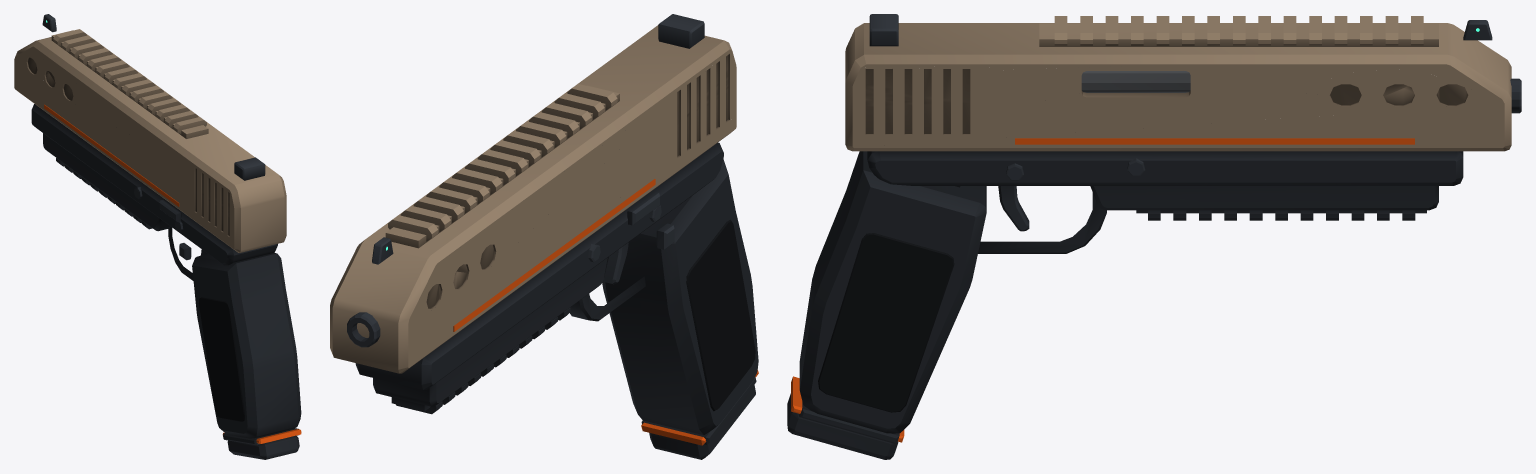
The model's file is desert-eagle.glb.
3 renders of one model, left to right at view 1: azimuth 30°, elevation 25°; view 2: azimuth 150°, elevation 25°; view 3: azimuth 270°, elevation 25°, orthographic. The views are drawn at different scales.
Parts seen in each view (by area): view 1: bolt_frame, body_frame2, body_rubber, mag_frame2, bolt_steel, bolt_accent, body_steel, mag_accent; view 2: bolt_frame, body_frame2, body_rubber, body_steel, bolt_steel, bolt_accent, mag_frame2, mag_accent; view 3: bolt_frame, body_frame2, body_rubber, bolt_accent, bolt_bolt, mag_frame2, body_steel, bolt_steel.
Boxes of the visible parts, box(x1,y1,x2,y2) form: bolt_frame: box(14, 29, 286, 252); body_frame2: box(31, 104, 301, 445); body_rubber: box(198, 297, 244, 421); mag_frame2: box(227, 435, 299, 459); bolt_steel: box(42, 14, 265, 180); bolt_accent: box(44, 104, 179, 206); body_steel: box(134, 187, 207, 260); mag_accent: box(222, 429, 301, 443); bolt_frame: box(330, 25, 736, 373); body_frame2: box(355, 142, 758, 444); body_rubber: box(686, 219, 755, 411); body_steel: box(347, 191, 674, 347); bolt_steel: box(372, 14, 704, 264); bolt_accent: box(453, 179, 655, 331); mag_frame2: box(649, 385, 755, 459); mag_accent: box(641, 370, 758, 445); bolt_frame: box(845, 16, 1511, 151); body_frame2: box(799, 151, 1463, 444); body_rubber: box(818, 233, 954, 412); bolt_accent: box(1015, 138, 1414, 144); bolt_bolt: box(1081, 71, 1190, 92); mag_frame2: box(787, 393, 898, 459); body_steel: box(998, 78, 1521, 231); bolt_steel: box(869, 14, 1492, 46).
Bounding box in the file's own units: 0.0415 × 0.1946 × 0.3029.
